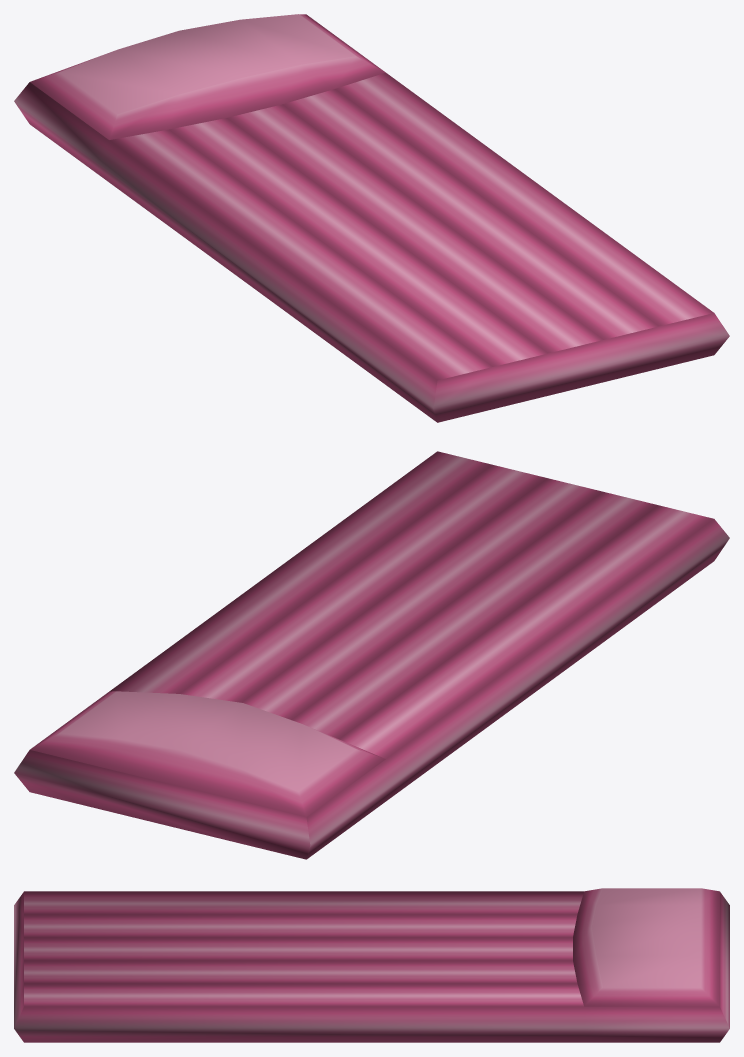
File: Inflatable_Bed_03.fbx
3 views of the same model, one above another, from view 1: azimuth 30°, elevation 25°; view 2: azimuth 150°, elevation 25°; view 3: azimuth 270°, elevation 25° (orthographic). The views are drawn at different scales.
Parts seen in each view (by area): view 1: Inflatable_Bed_03; view 2: Inflatable_Bed_03; view 3: Inflatable_Bed_03.
Part boxes in pixels (x1,y1,x2,y2): Inflatable_Bed_03: (14, 14, 729, 422); Inflatable_Bed_03: (14, 451, 729, 859); Inflatable_Bed_03: (14, 888, 729, 1042).
Bounding box in the file's own units: 0.2846 × 0.0623 × 0.6982.
